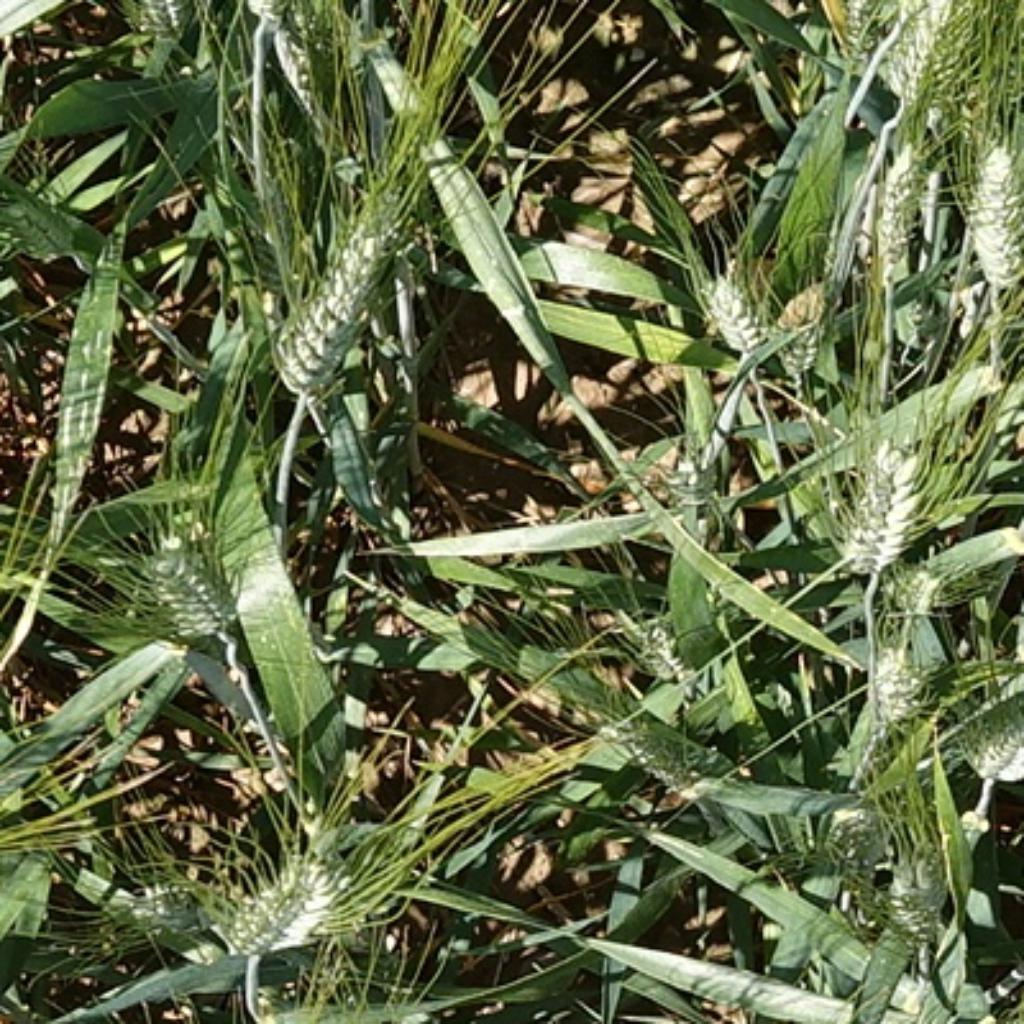0-0: (263, 218, 396, 406), (204, 837, 358, 957), (128, 509, 245, 642), (836, 430, 937, 575), (826, 130, 931, 268), (596, 696, 727, 788), (954, 125, 1024, 284), (642, 417, 742, 524), (2, 171, 87, 291), (847, 624, 929, 747), (884, 5, 974, 117), (862, 837, 949, 952), (691, 248, 780, 350), (268, 2, 345, 115), (939, 673, 1021, 778), (762, 288, 834, 389), (614, 599, 688, 680), (872, 547, 954, 614), (117, 876, 202, 940), (133, 2, 209, 69), (846, 9, 896, 66)
